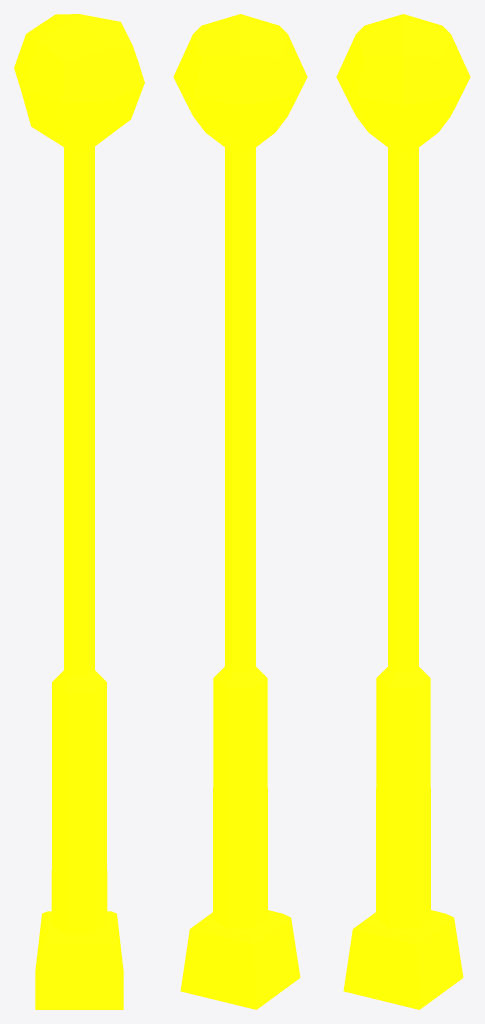
Rendered from lamp-city.glb.
The picture shows the model from 3 angles, left to right: view 1: azimuth 90°, elevation 25°; view 2: azimuth 150°, elevation 25°; view 3: azimuth 330°, elevation 25°; orthographic projection.
Parts seen in each view (by area): view 1: lamp-city; view 2: lamp-city; view 3: lamp-city.
Part boxes in pixels (x1=…): lamp-city: x1=14, y1=14, x2=144, y2=1009; lamp-city: x1=173, y1=14, x2=307, y2=1009; lamp-city: x1=336, y1=14, x2=470, y2=1009.
Bounding box in the file's own units: 0.8121 × 6.69 × 0.8121.
Materials: 1 (1 with a texture image).
